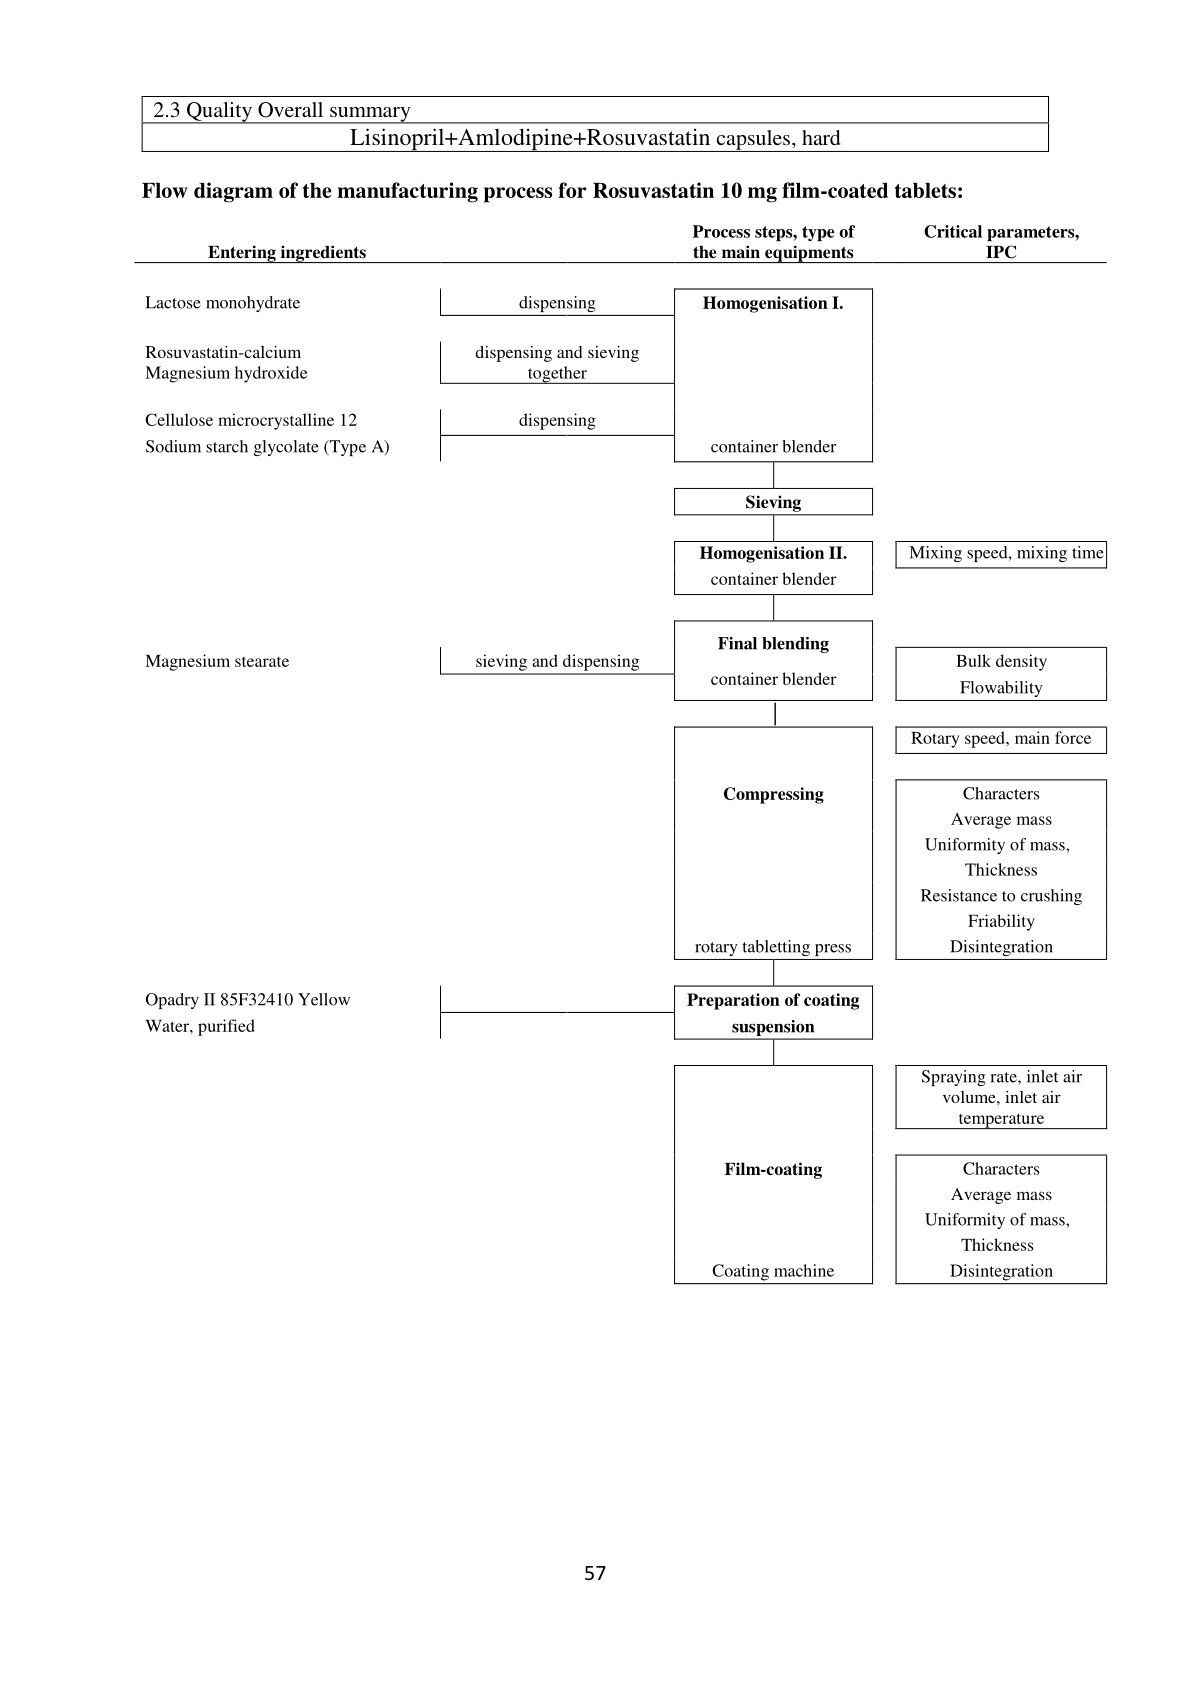full_lined: (140, 95, 1051, 153)
